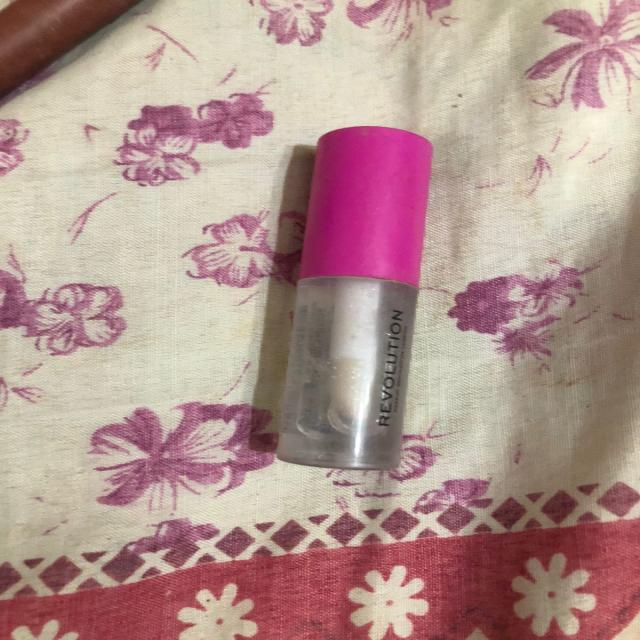Tint: (268, 119, 442, 476)
